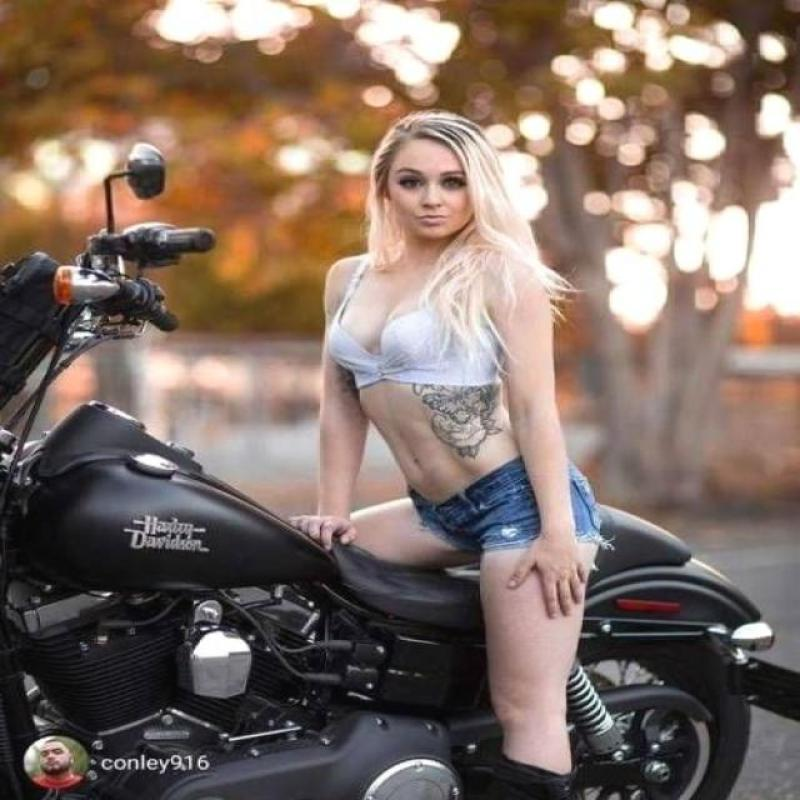nohelmet: (360, 104, 532, 245)
